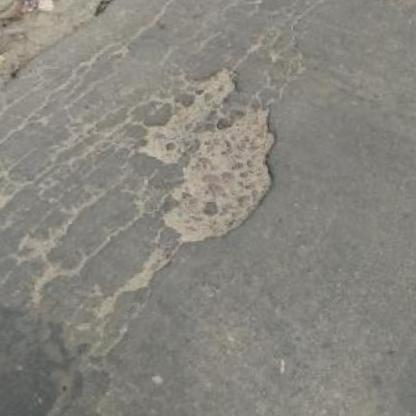pothole: (127, 60, 293, 249)
